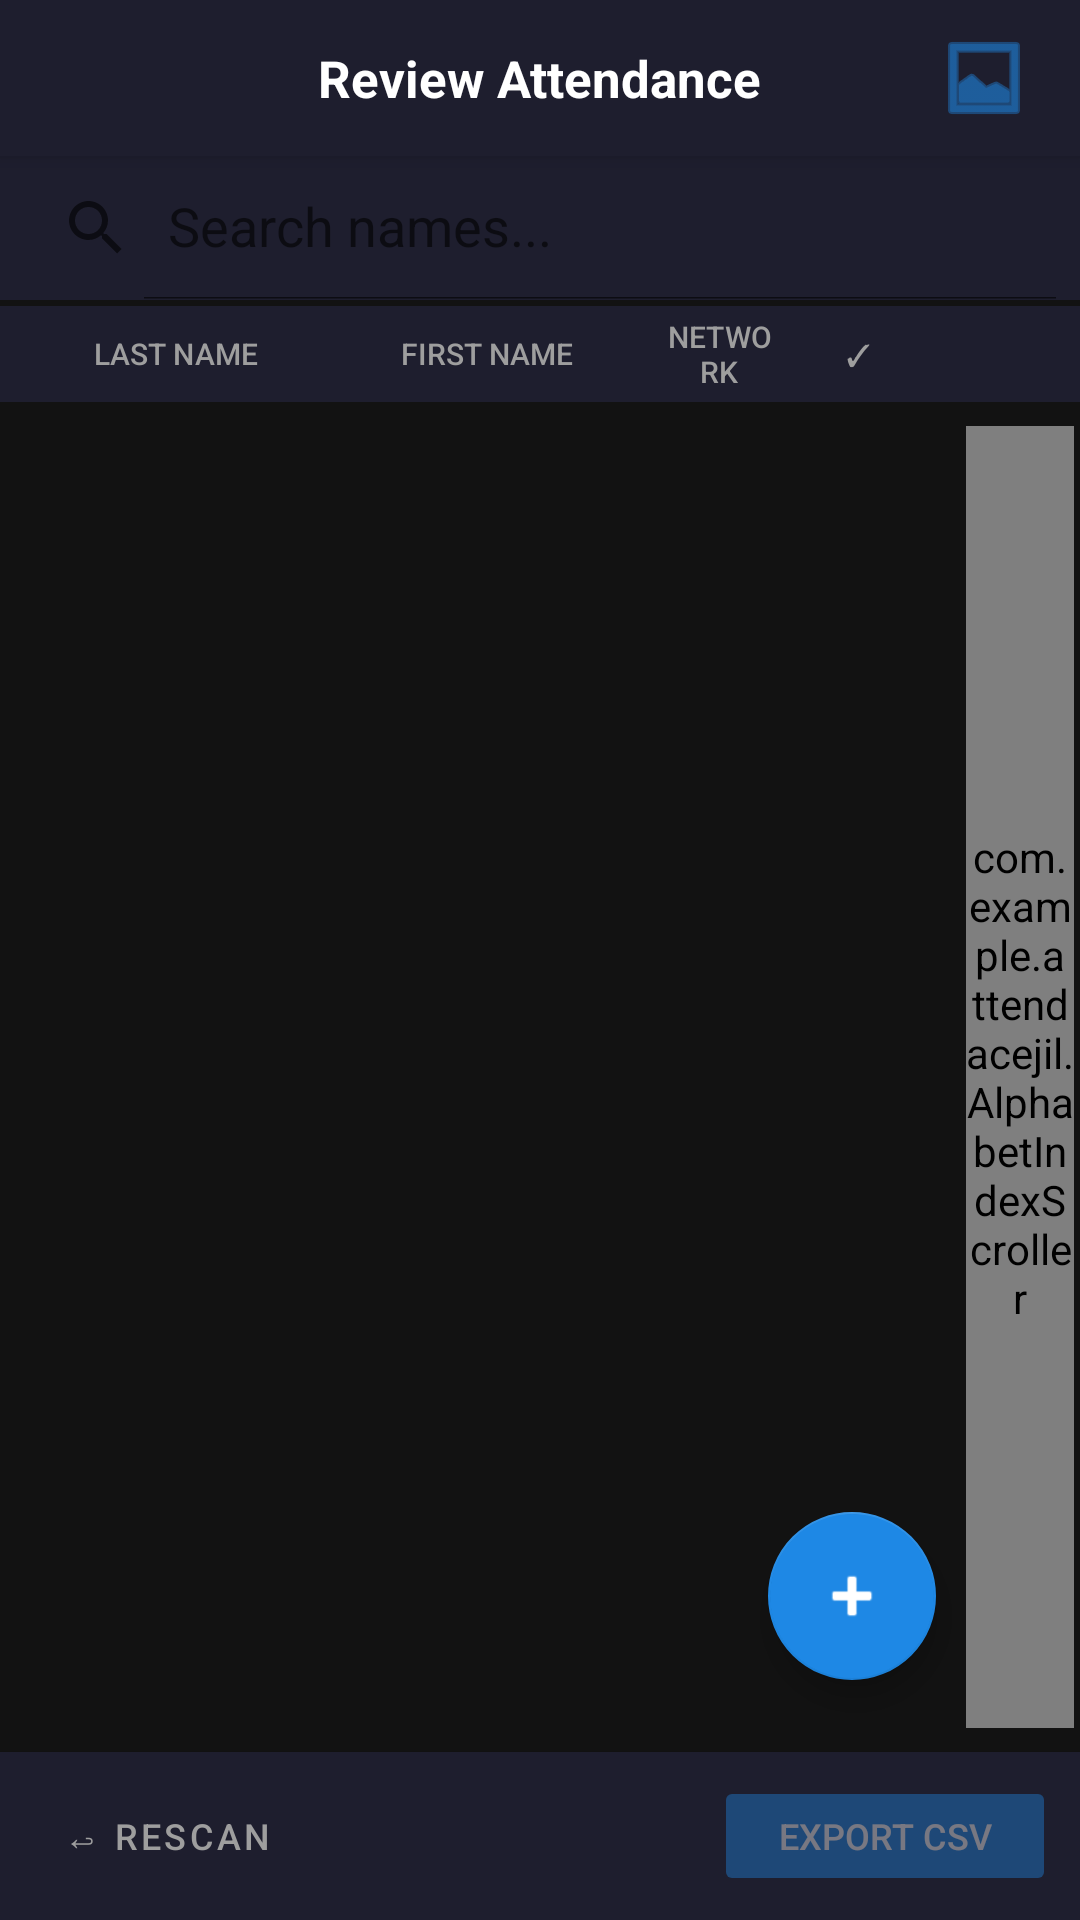

Screen size 1080w x 1920h. Icon name, then its center in pixels as (x=x, y=y):
Add Member: (x=852, y=1596)
View Source Image: (x=984, y=78)
